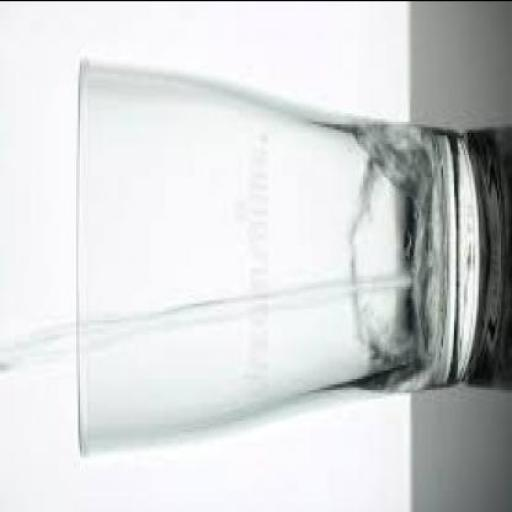glass: (74, 72, 500, 456)
